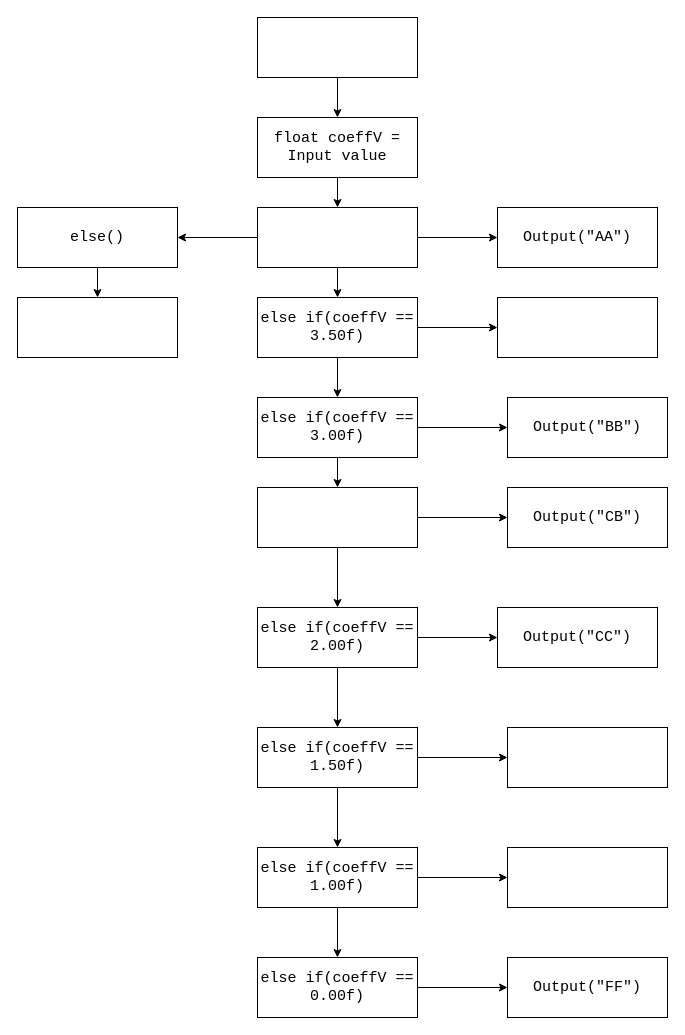
Image size: 685x1035. Some labels were removed from this diagram. The shapes that lost their labels are listed below. From the top down, each one's box as (x1, y1, x2, y2) in pixels, then its label:
(256, 16, 418, 78): Start
(256, 206, 418, 268): if(coeffV == 4.00f)
(16, 296, 178, 358): Output("Error")
(496, 296, 658, 358): Output("BA")
(256, 486, 418, 548): else if(coeffV == 2.50f)
(506, 726, 668, 788): Output("DC")
(506, 846, 668, 908): Output("DD")
